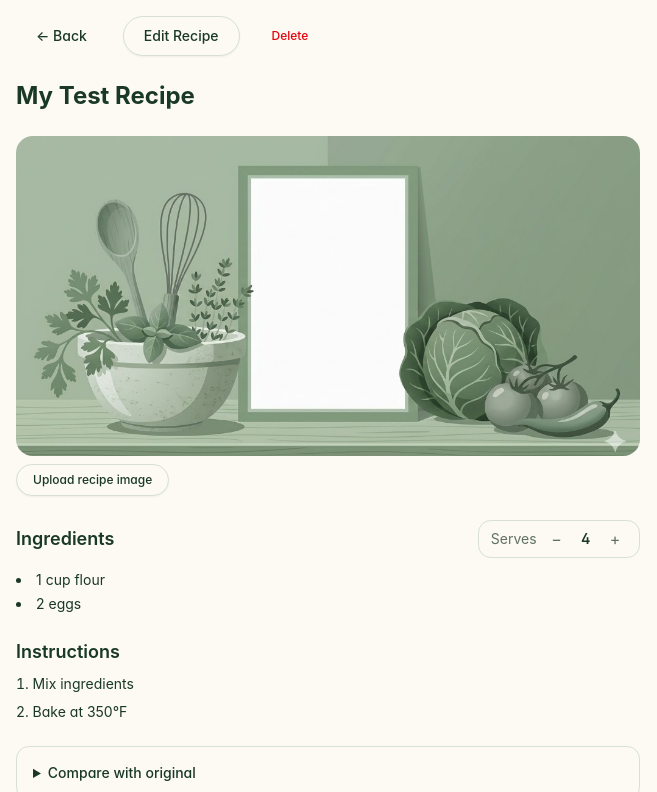
Test: RecipeDetailPage › entering edit mode shows form fields pre-populated with recipe data
The width and height of the screenshot is (657, 792).
Check: the heading "My Test Recipe" is shown, box [16,81,195,110]
What coordinates should you click on to do the following:
click the button "Edit Recipe"
I would click on:
 (181, 36)
Its box is [123,16,240,56].
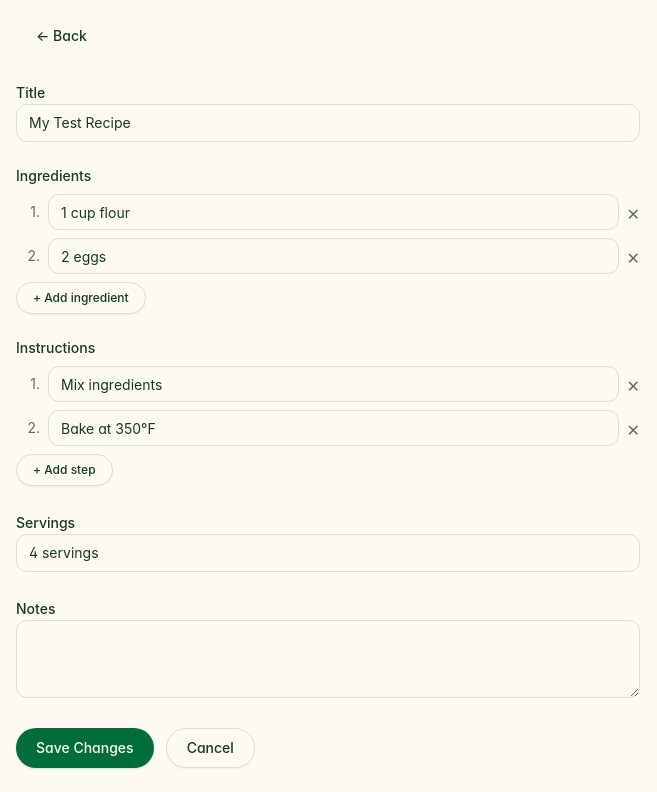
Check: the field labelled "Title" holds "My Test Recipe", box [16,104,640,142]
Check: the text box named "ingredient 1" holds "1 cup flour", box [48,194,619,230]
Check: the text box named "step 1" holds "Mix ingredients", box [48,366,619,402]
